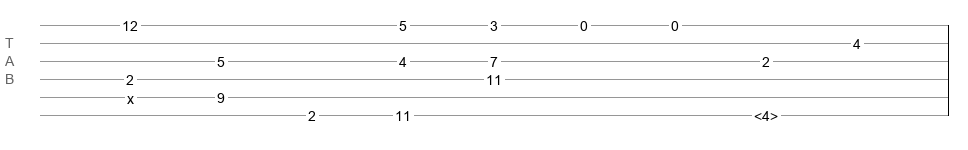0: (580, 18, 588, 28), (671, 18, 679, 28)
11: (395, 108, 411, 118), (486, 72, 502, 82)
12: (122, 18, 138, 28)
2: (126, 72, 134, 82), (308, 108, 316, 118), (762, 54, 770, 64)
3: (490, 18, 498, 28)
4: (399, 54, 407, 64), (853, 36, 861, 46)
5: (217, 54, 225, 64), (399, 18, 407, 28)
7: (490, 54, 498, 64)
9: (217, 90, 225, 100)
harmonic: (754, 108, 778, 118)
x: (127, 91, 134, 99)
